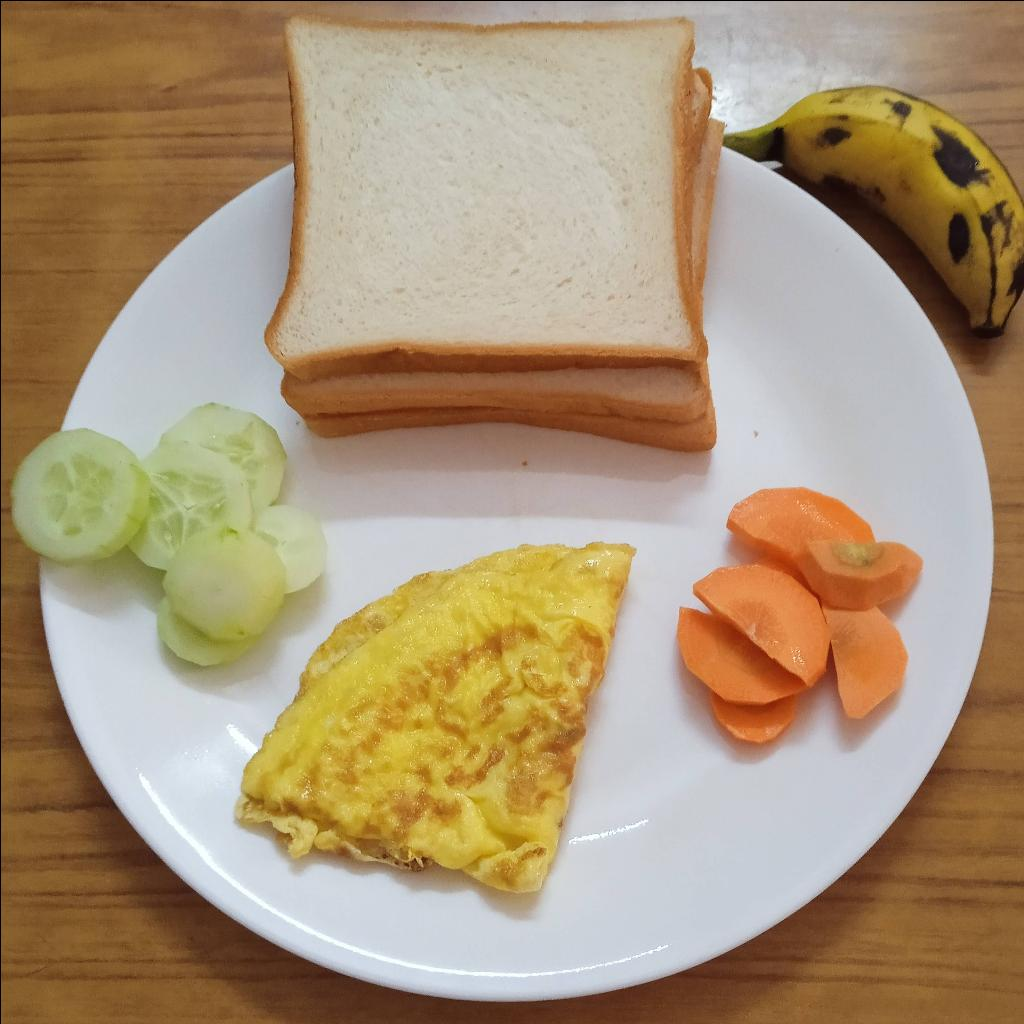banana: (724, 85, 1024, 336)
bread: (265, 13, 733, 449)
carrot: (679, 488, 922, 746)
cucumber: (6, 399, 322, 673)
egg-poached: (226, 542, 641, 893)
